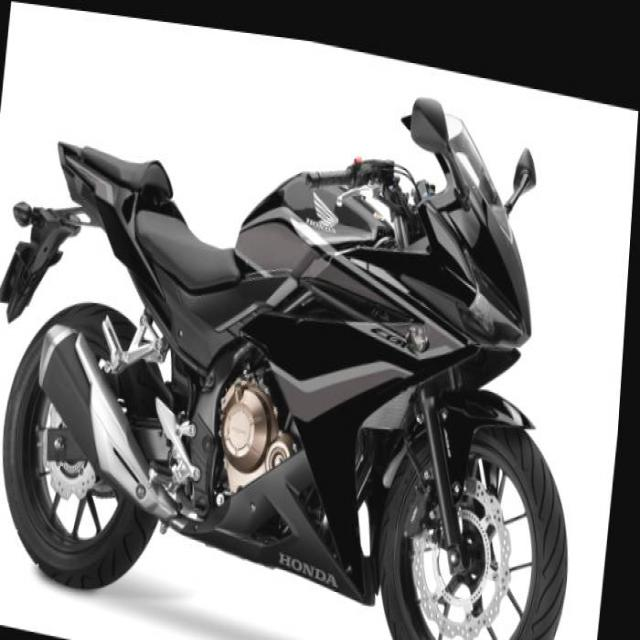CBR500R: (0, 17, 616, 638)
